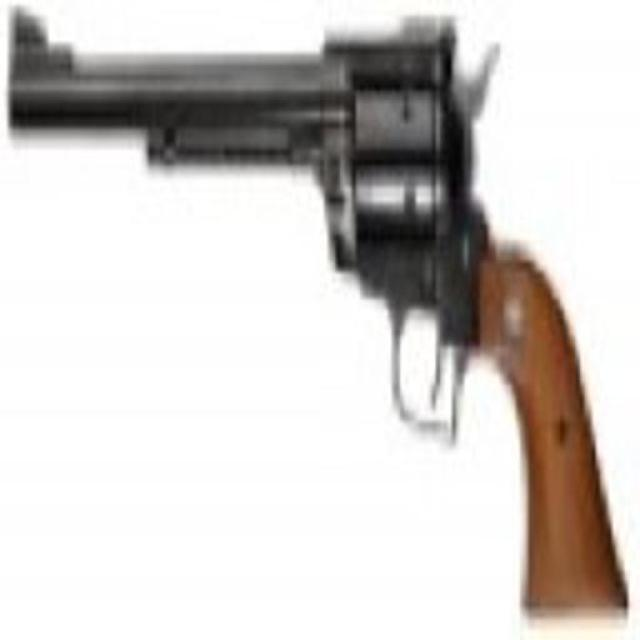pistol: (3, 5, 631, 612)
